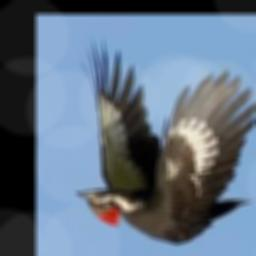Woodpecker: (77, 36, 256, 245)
